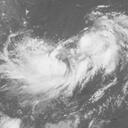cyclone: (9, 17, 123, 103)
